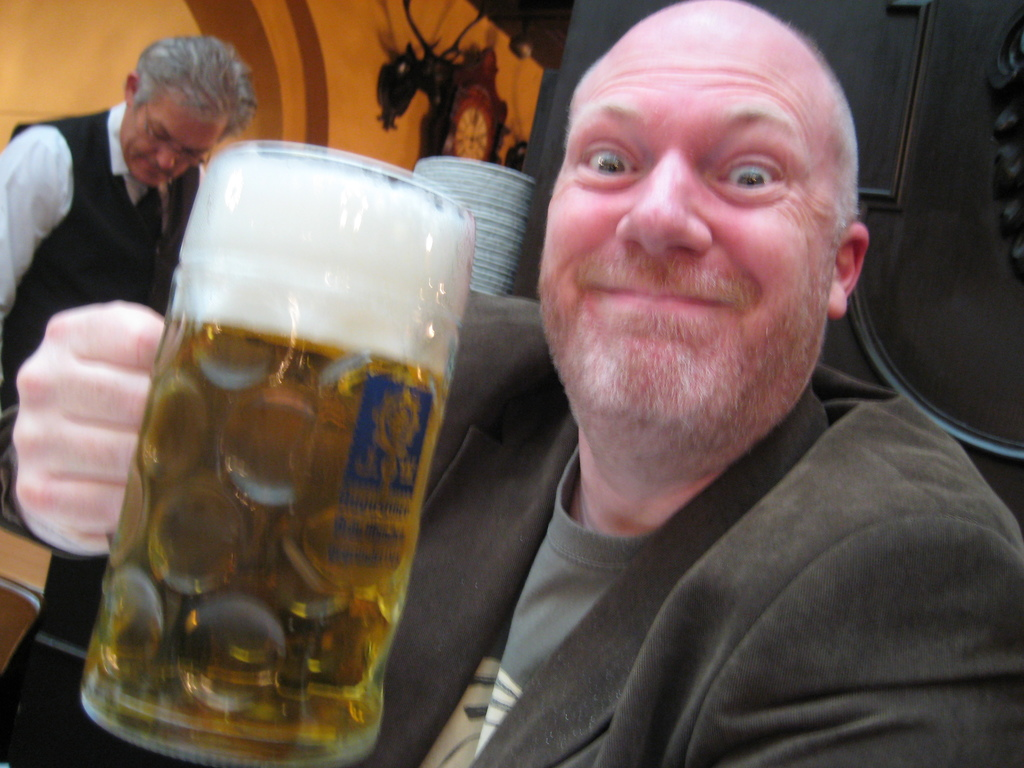Beer: (76, 143, 475, 767)
